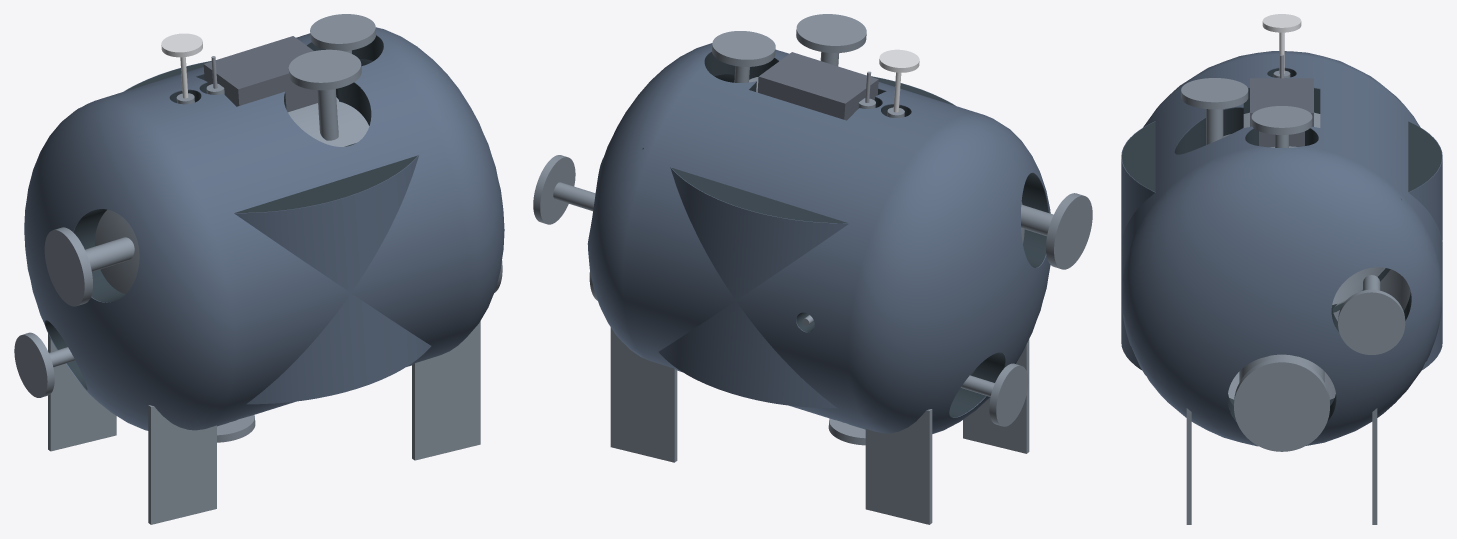
The model's file is spt_korpus.glb.
3 renders of one model, left to right at view 1: azimuth 30°, elevation 25°; view 2: azimuth 150°, elevation 25°; view 3: azimuth 270°, elevation 25°, orthographic. The views are drawn at different scales.
Visible parts, largest first — view 1: spt_korpus (×5); view 2: spt_korpus (×5); view 3: spt_korpus (×5).
Boxes of the visible parts, bbox=[...] form: spt_korpus (×5): bbox=[14, 14, 504, 524]; spt_korpus (×5): bbox=[533, 14, 1092, 524]; spt_korpus (×5): bbox=[1121, 14, 1442, 524].
Size of the model in its own units: 0.776 by 0.6782 by 0.502.
